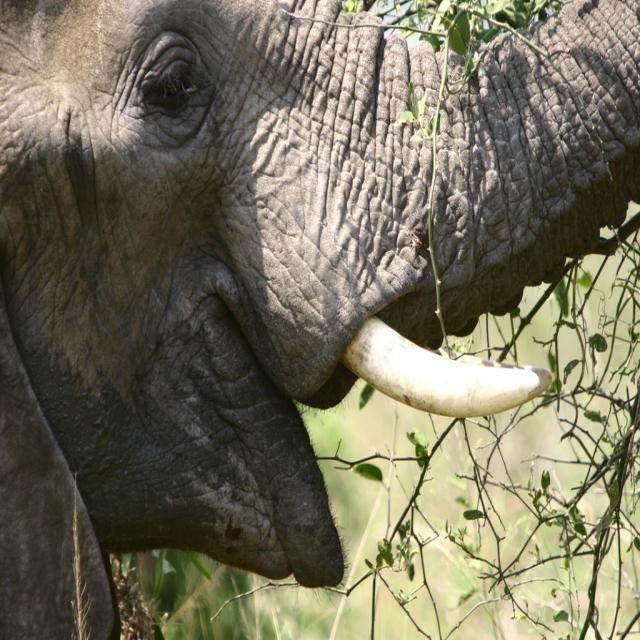elephant: (0, 0, 598, 617)
